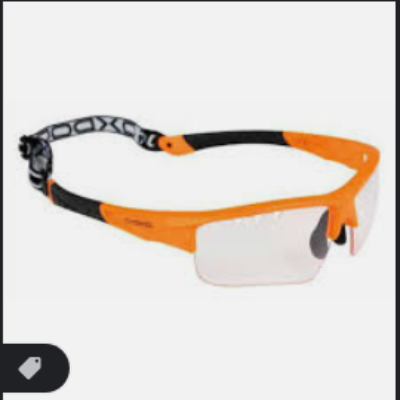glasses: (18, 112, 382, 292)
